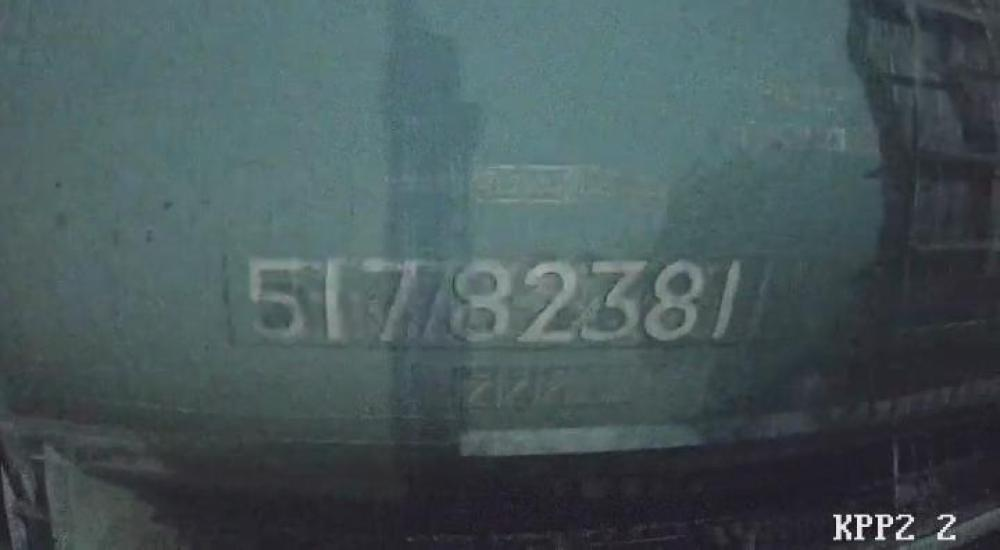Wagon-number: (234, 248, 747, 348)
